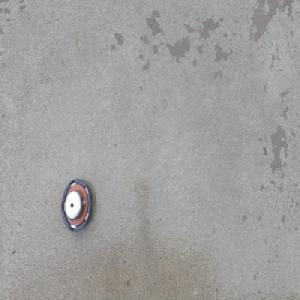FuelCap: (60, 177, 92, 236)
